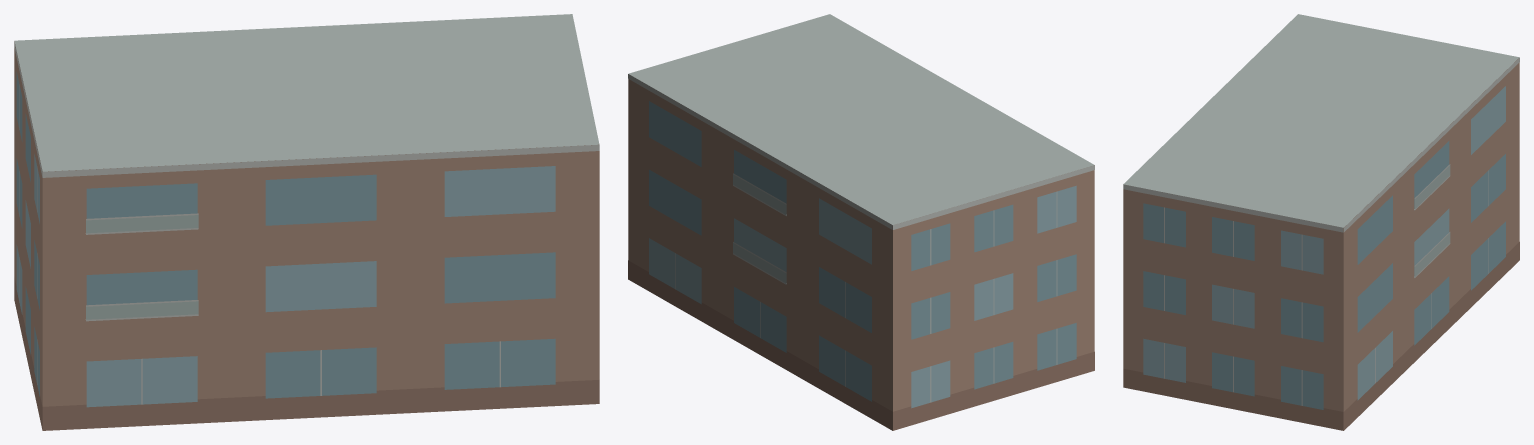
File: survey-upis-32524109.glb
3 renders of one model, left to right at view 1: azimuth 30°, elevation 25°; view 2: azimuth 150°, elevation 25°; view 3: azimuth 270°, elevation 25°, orthographic. The views are drawn at different scales.
Visible parts, largest first — view 1: survey-upis-32524109.tmp; view 2: survey-upis-32524109.tmp; view 3: survey-upis-32524109.tmp.
Boxes of the visible parts, x1,y1,x2,y2 form: survey-upis-32524109.tmp: (14, 14, 599, 430); survey-upis-32524109.tmp: (628, 14, 1094, 430); survey-upis-32524109.tmp: (1123, 14, 1519, 430).
Bounding box in the file's own units: 22.8 × 10.1 × 17.88.
